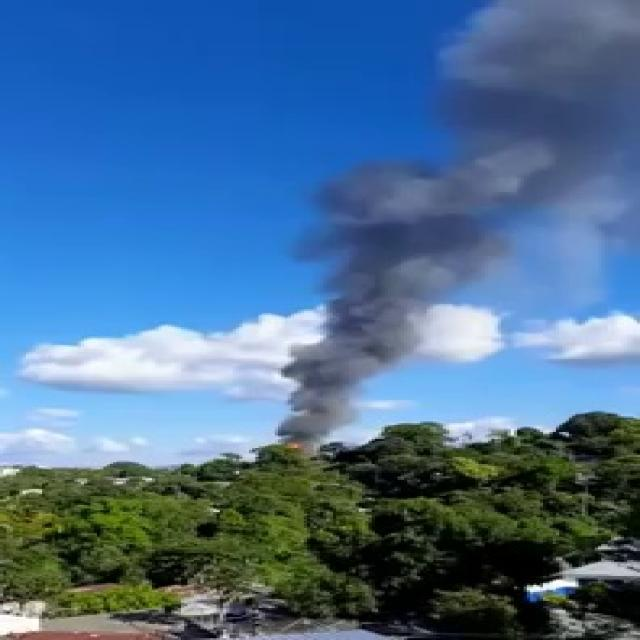Smoke: (213, 0, 640, 450)
